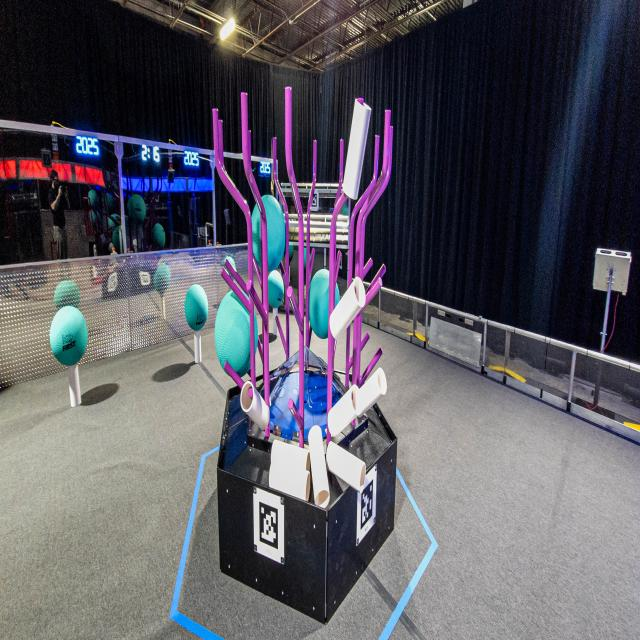Algae: (215, 289, 257, 378), (251, 196, 286, 274), (50, 306, 88, 366), (309, 268, 340, 339), (185, 284, 208, 330), (268, 270, 284, 308)
Coral: (342, 99, 372, 200), (329, 277, 366, 340), (326, 440, 366, 494), (308, 425, 330, 509), (328, 385, 362, 437), (271, 439, 310, 478), (269, 464, 310, 501), (357, 368, 387, 418), (240, 381, 270, 430), (67, 363, 82, 407), (194, 331, 202, 364), (273, 308, 278, 335)
